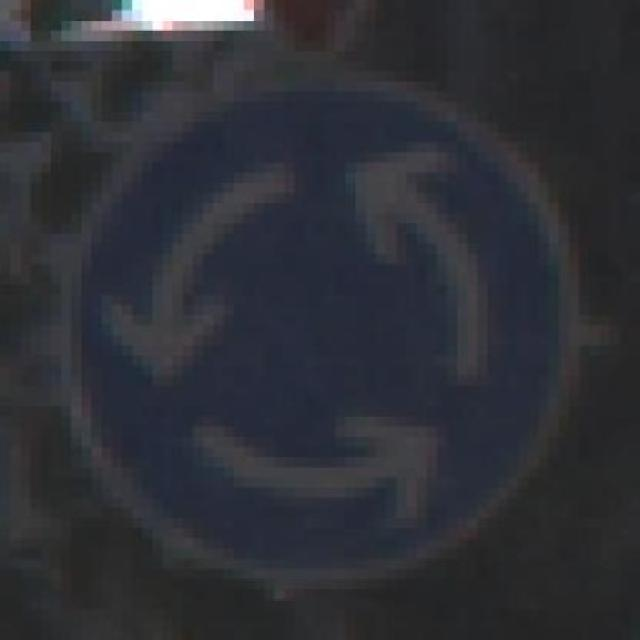Round-About: (61, 82, 610, 589)
